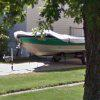Boat: (12, 19, 100, 75)
